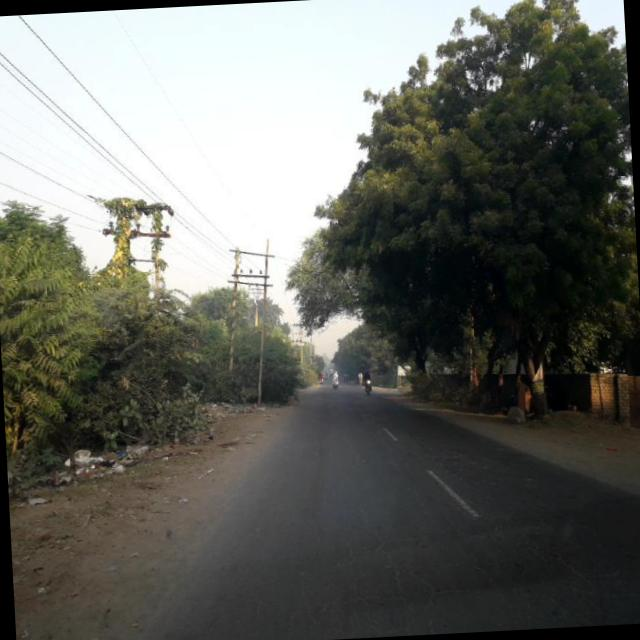crack: (297, 488, 640, 633)
